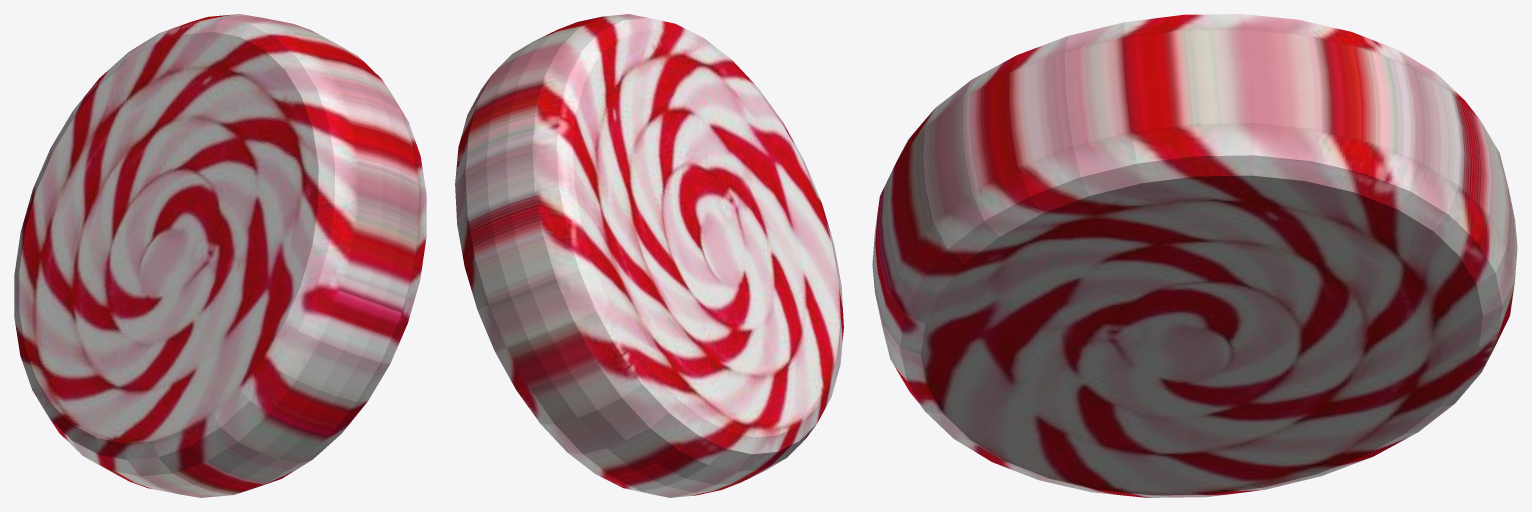
Rendered from Zaeltli-Spirale--unten-02.gltf.
The picture shows the model from 3 angles, left to right: view 1: azimuth 30°, elevation 25°; view 2: azimuth 150°, elevation 25°; view 3: azimuth 270°, elevation 25°; orthographic projection. The views are drawn at different scales.
Visible parts, largest first — view 1: Zaeltli-Spirale--unten-02; view 2: Zaeltli-Spirale--unten-02; view 3: Zaeltli-Spirale--unten-02.
Boxes of the visible parts, bbox=[...] form: Zaeltli-Spirale--unten-02: bbox=[14, 14, 426, 497]; Zaeltli-Spirale--unten-02: bbox=[455, 14, 843, 497]; Zaeltli-Spirale--unten-02: bbox=[872, 14, 1517, 497].
Size of the model in its own units: 0.7073 by 0.9419 by 1.
Materials: 1 (1 with a texture image).
